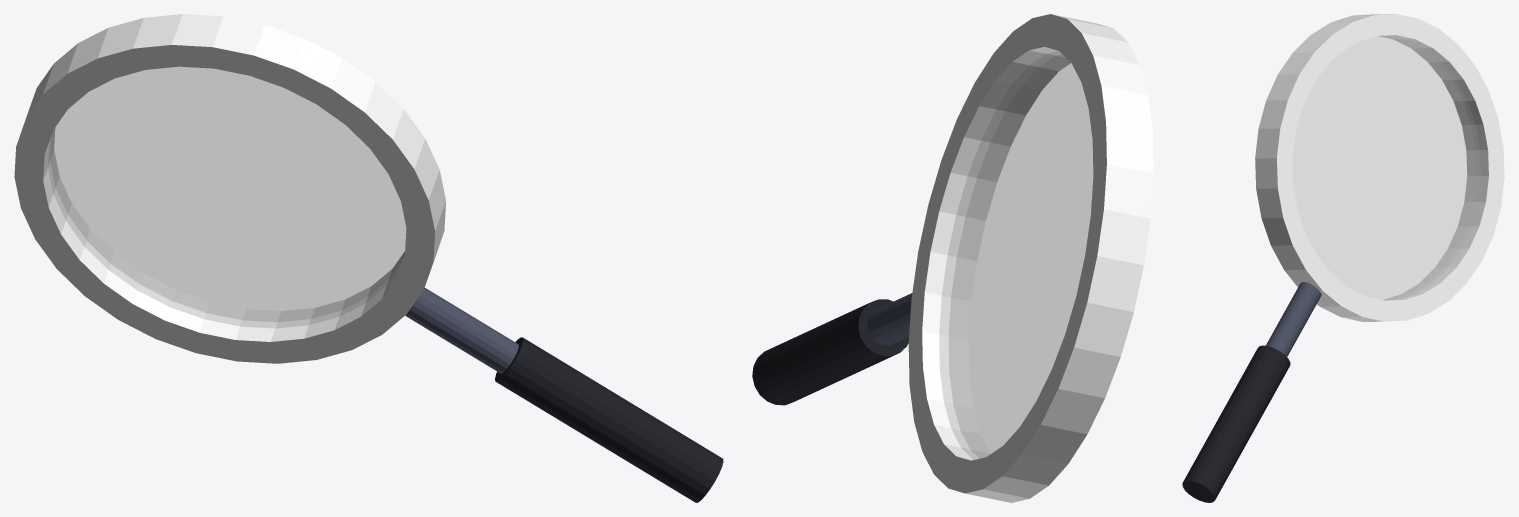
File: magnifying glass.fbx
3 views of the same model, side by side, from view 1: azimuth 30°, elevation 25°; view 2: azimuth 150°, elevation 25°; view 3: azimuth 270°, elevation 25° (orthographic). The views are drawn at different scales.
Visible parts, largest first — view 1: Magnifying_glass:magnifying_glass; view 2: Magnifying_glass:magnifying_glass; view 3: Magnifying_glass:magnifying_glass.
Boxes of the visible parts, <box> form: Magnifying_glass:magnifying_glass: <box>14,14,723,502</box>; Magnifying_glass:magnifying_glass: <box>752,14,1153,502</box>; Magnifying_glass:magnifying_glass: <box>1182,14,1504,502</box>.
Size of the model in its own units: 330539 by 301785 by 249639.
4 materials, 2 textured.
